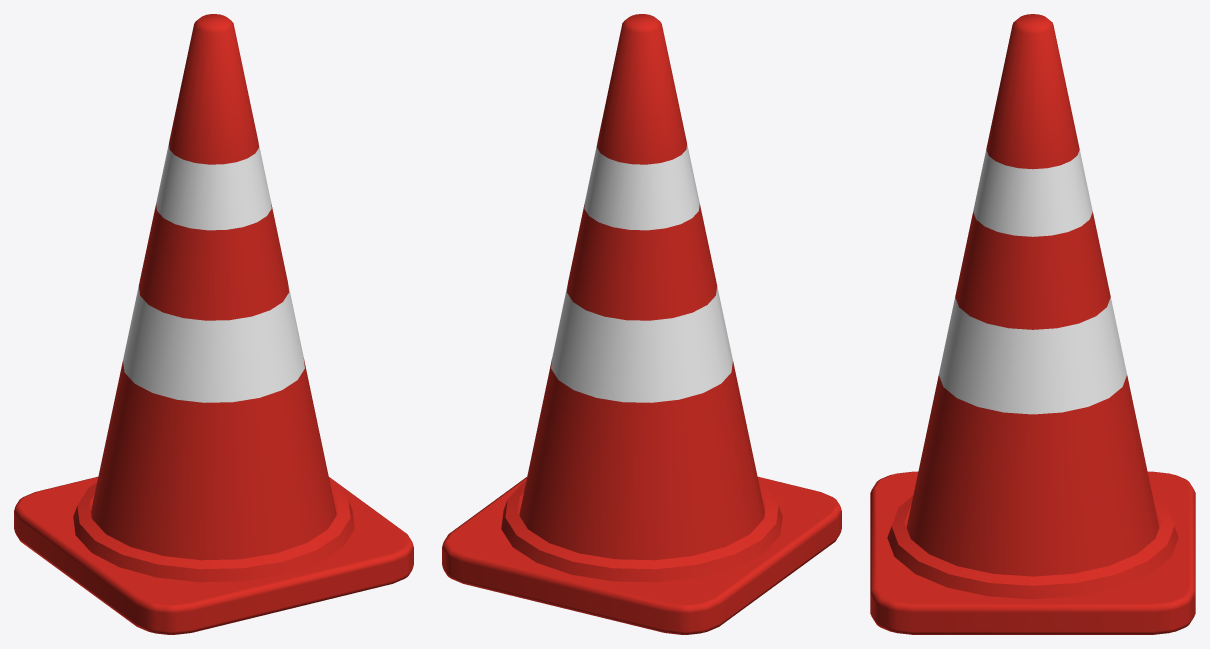
Rendered from traffic_cone.fbx.
The picture shows the model from 3 angles, left to right: view 1: azimuth 30°, elevation 25°; view 2: azimuth 150°, elevation 25°; view 3: azimuth 270°, elevation 25°; orthographic projection. The views are drawn at different scales.
Parts seen in each view (by area): view 1: traffic_cone; view 2: traffic_cone; view 3: traffic_cone.
Part boxes in pixels (box(x1,y1,x2,y2)): traffic_cone: box(14, 14, 413, 634); traffic_cone: box(442, 14, 841, 634); traffic_cone: box(870, 14, 1195, 634).
Bounding box in the file's own units: 0.38 × 0.706 × 0.38.
